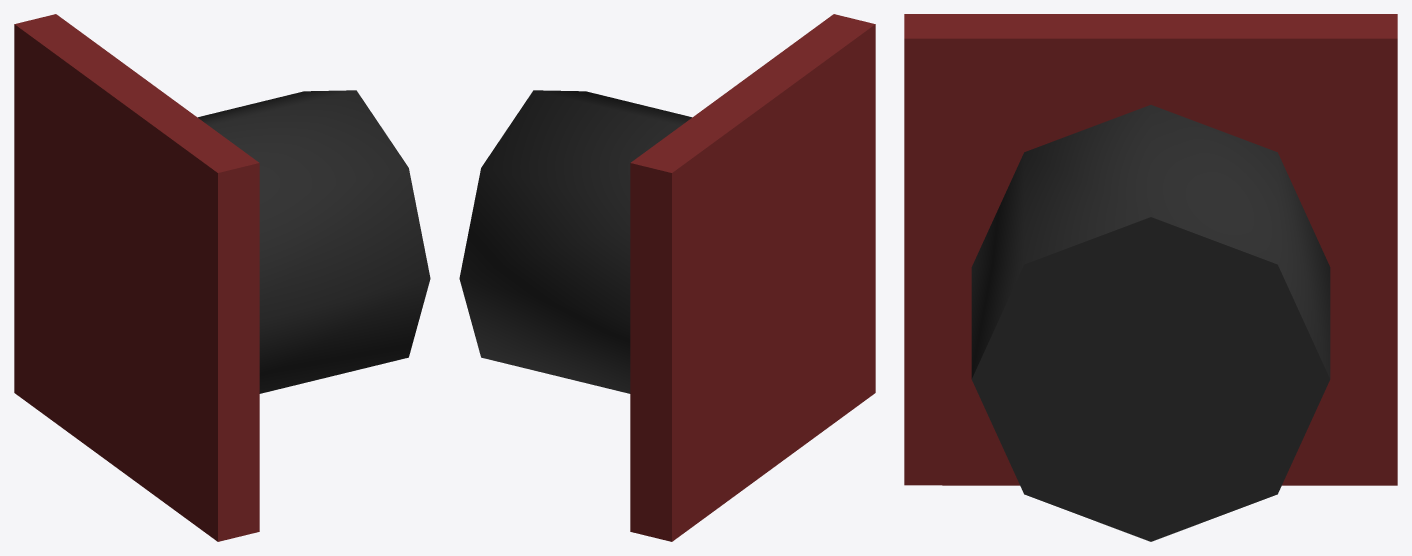
File: thermal_small.dae
The picture shows the model from 3 angles, left to right: view 1: azimuth 30°, elevation 25°; view 2: azimuth 150°, elevation 25°; view 3: azimuth 270°, elevation 25°; orthographic projection. The views are drawn at different scales.
Visible parts, largest first — view 1: Plane; view 2: Plane; view 3: Plane.
Part boxes in pixels (bbox=[...]): Plane: bbox=[14, 14, 430, 541]; Plane: bbox=[459, 14, 875, 541]; Plane: bbox=[904, 14, 1397, 541].
Bounding box in the file's own units: 0.015 × 0.022 × 0.022.
